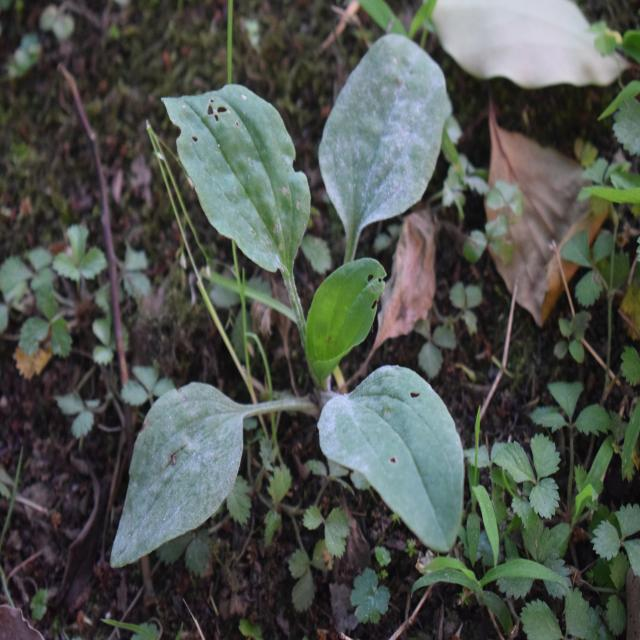plantain: (129, 43, 478, 531)
